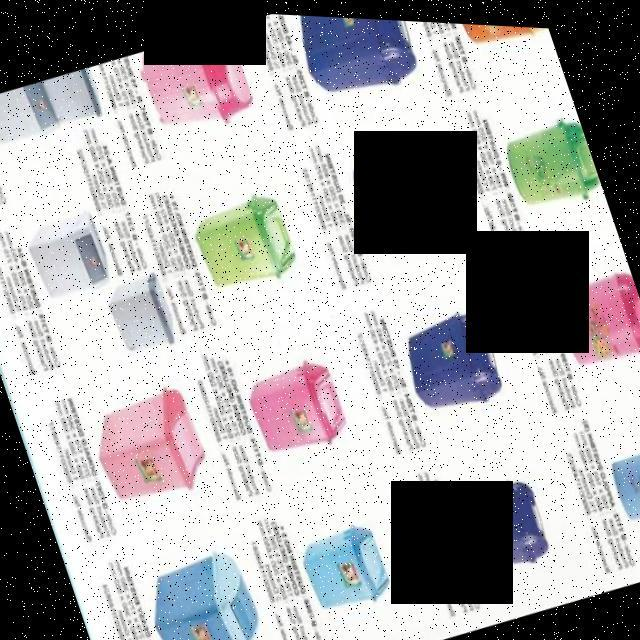bin: (434, 421, 591, 598), (279, 460, 429, 640), (72, 352, 224, 523), (378, 262, 534, 428), (223, 300, 364, 479), (326, 100, 470, 272), (118, 491, 282, 640), (173, 144, 312, 313), (482, 59, 608, 225), (133, 15, 272, 154), (531, 210, 640, 383), (287, 12, 436, 118), (15, 199, 112, 298), (588, 382, 640, 564), (93, 257, 181, 360), (435, 18, 554, 70), (38, 62, 108, 129), (0, 80, 51, 149)
